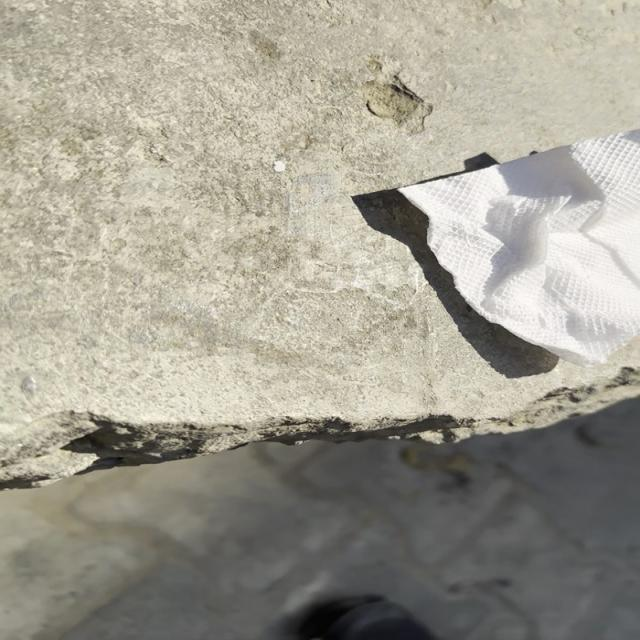tissue: (404, 125, 640, 374)
